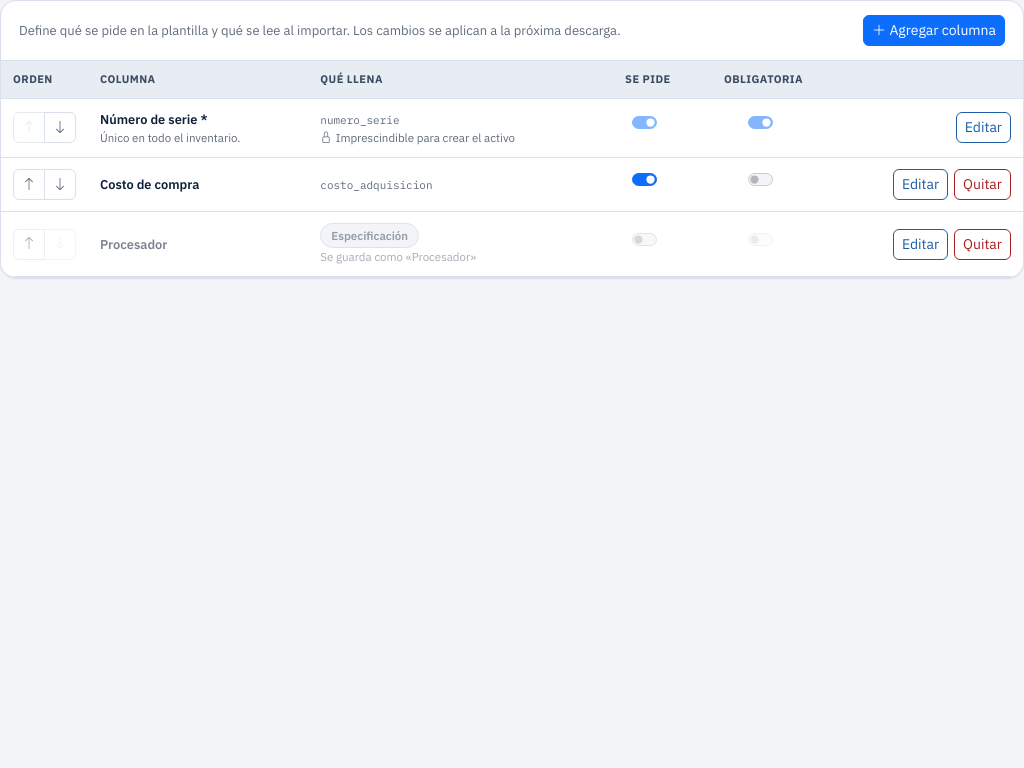
Scenario: Agregar una columna › editar una imprescindible deja cambiar el encabezado, no su carácter
The image size is (1024, 768).
Check: the text "Número de serie *" is shown, box [100,110,208,128]
Click the button "Editar" in the row of "Número de serie *".
click(983, 128)  # box [956,112,1011,143]
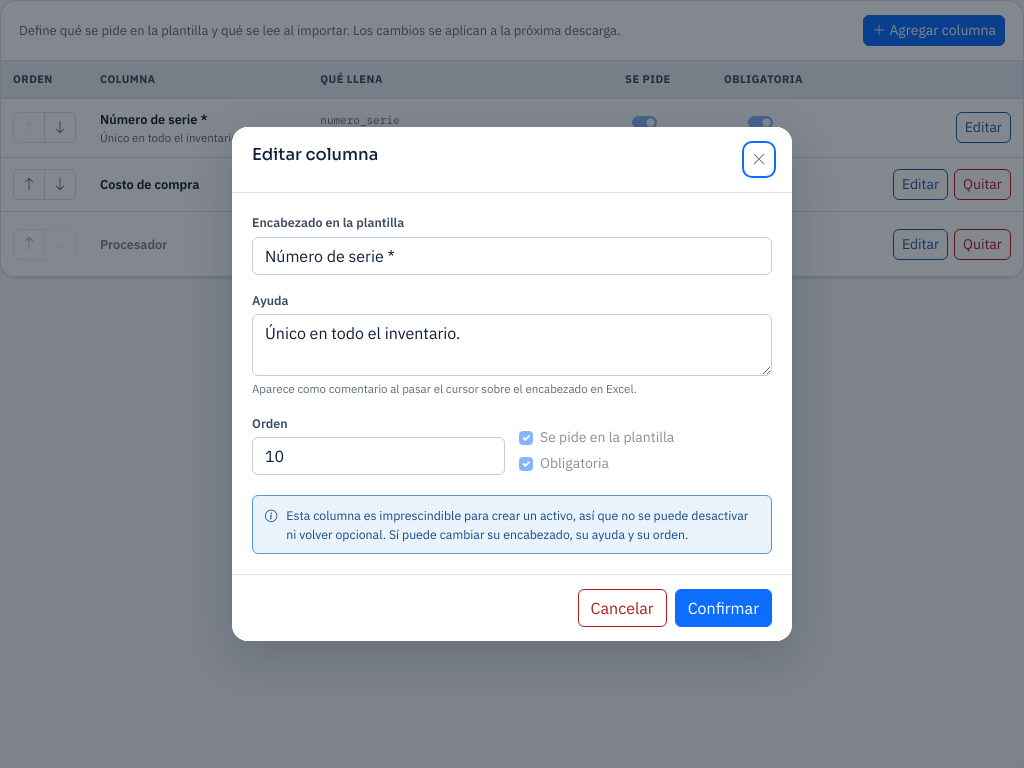
Check: the field labelled "Encabezado en la plantilla" is enabled, box [252,237,772,275]
Check: the checkbox labelled "Se pide en la plantilla" is disabled, box [519,431,533,445]
Check: the checkbox labelled "Obligatoria" is disabled, box [519,457,533,471]
